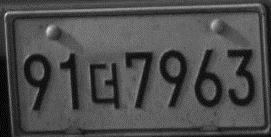1: (53, 51, 86, 114)
3: (225, 47, 257, 106)
6: (192, 48, 223, 109)
7: (124, 49, 155, 110)
9: (21, 52, 53, 112), (157, 48, 189, 108)
더: (89, 61, 121, 111)
